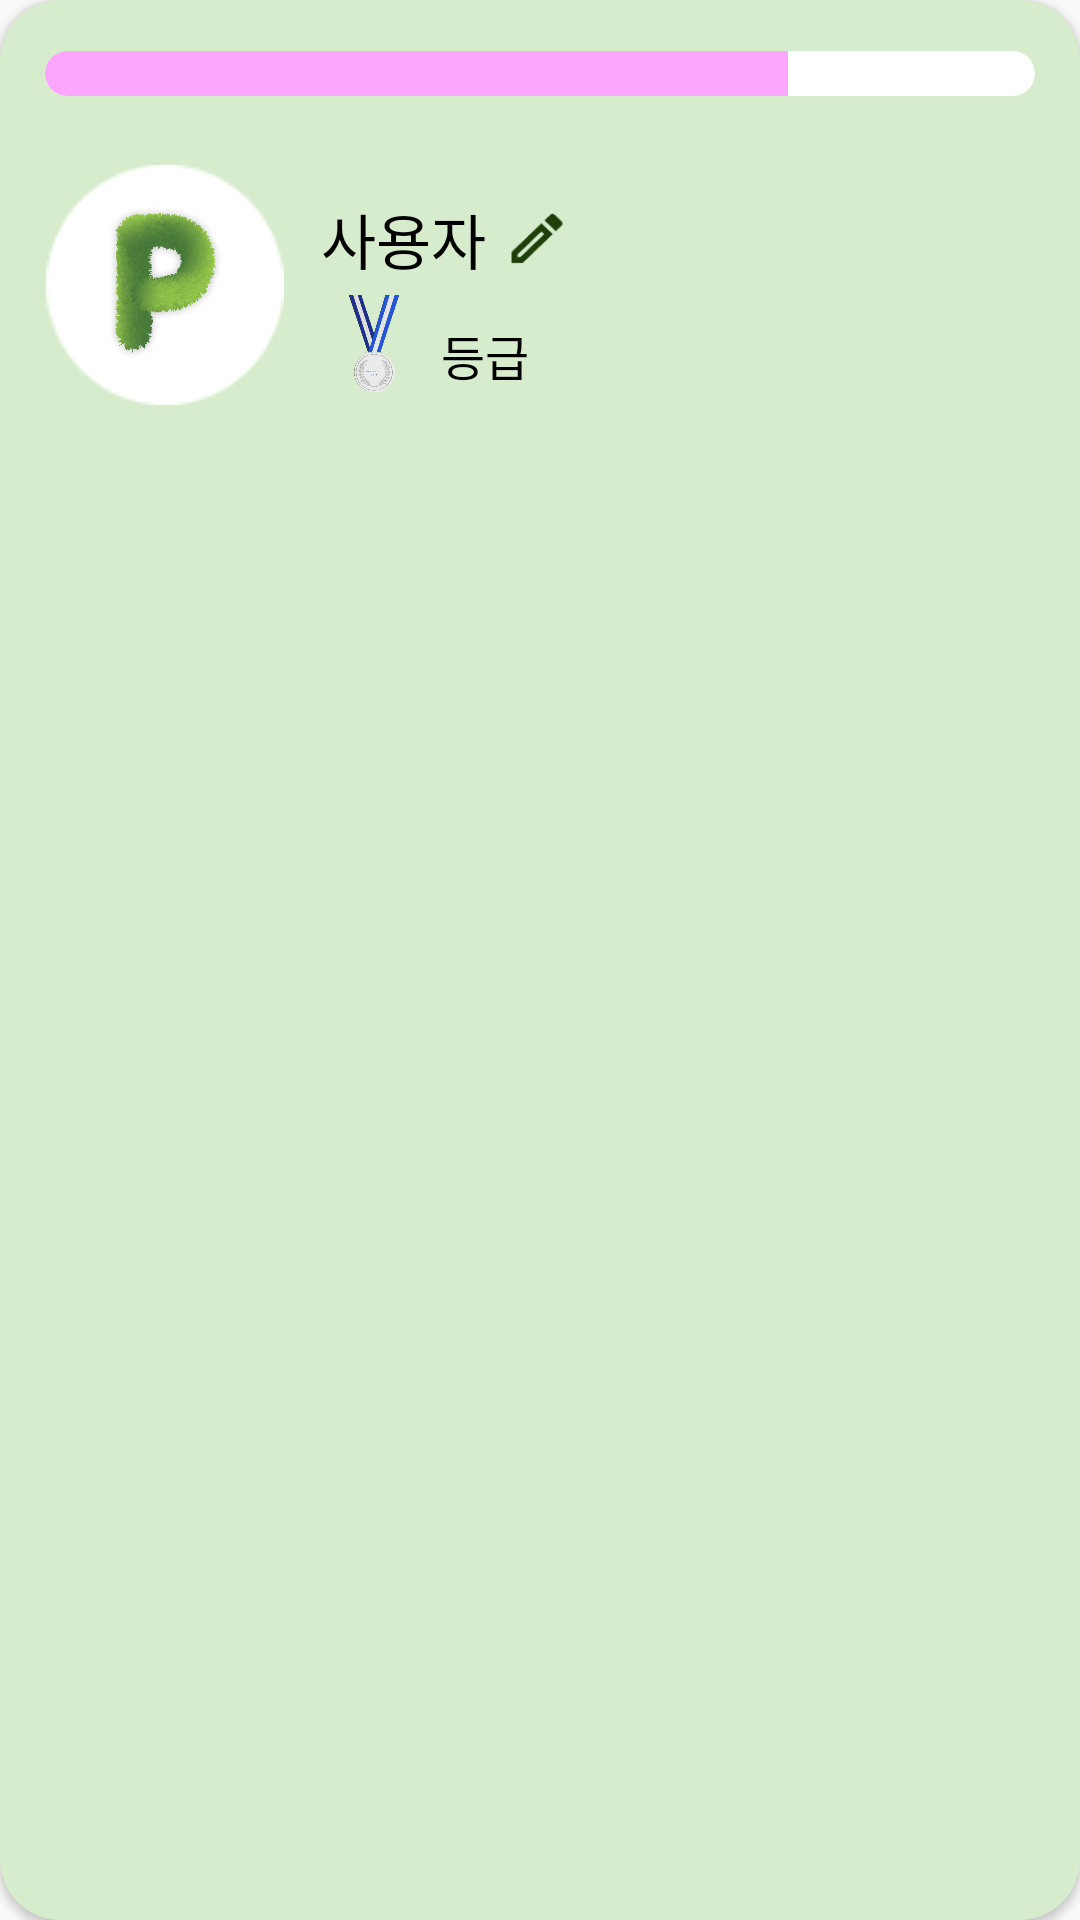

Named icons in this screenshot (1080 x 1920) and their centers, (x,y):
pen: (537,238)
silver: (374,343)
